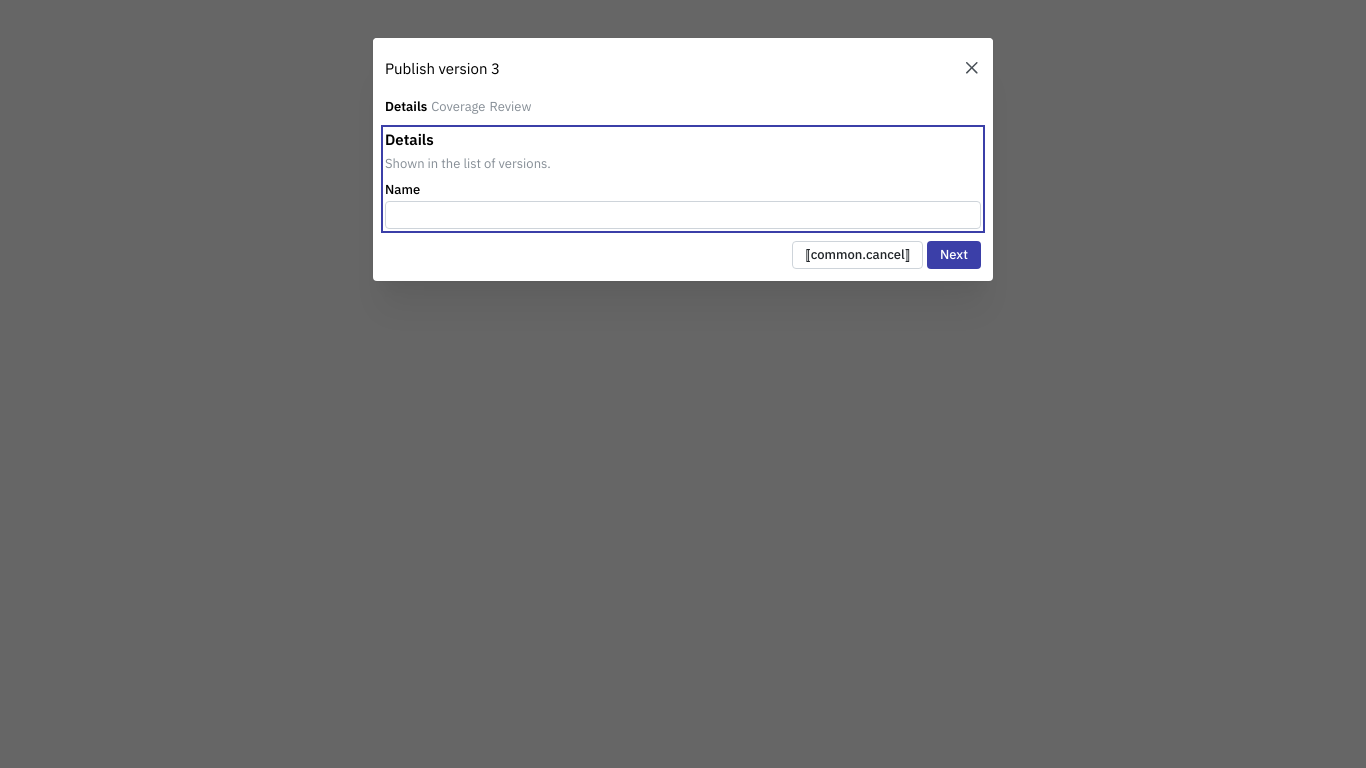
Wizard — крок Review додається САМ › після останнього описаного кроку йде Review з тим, що ввели
The image size is (1366, 768).
Expected: the text "Details" is shown 3 times, [385, 98, 427, 117]; [431, 98, 486, 117]; [490, 98, 531, 117]
In the field labelled "Name": (683, 215) [385, 201, 981, 229], type "Version 3"
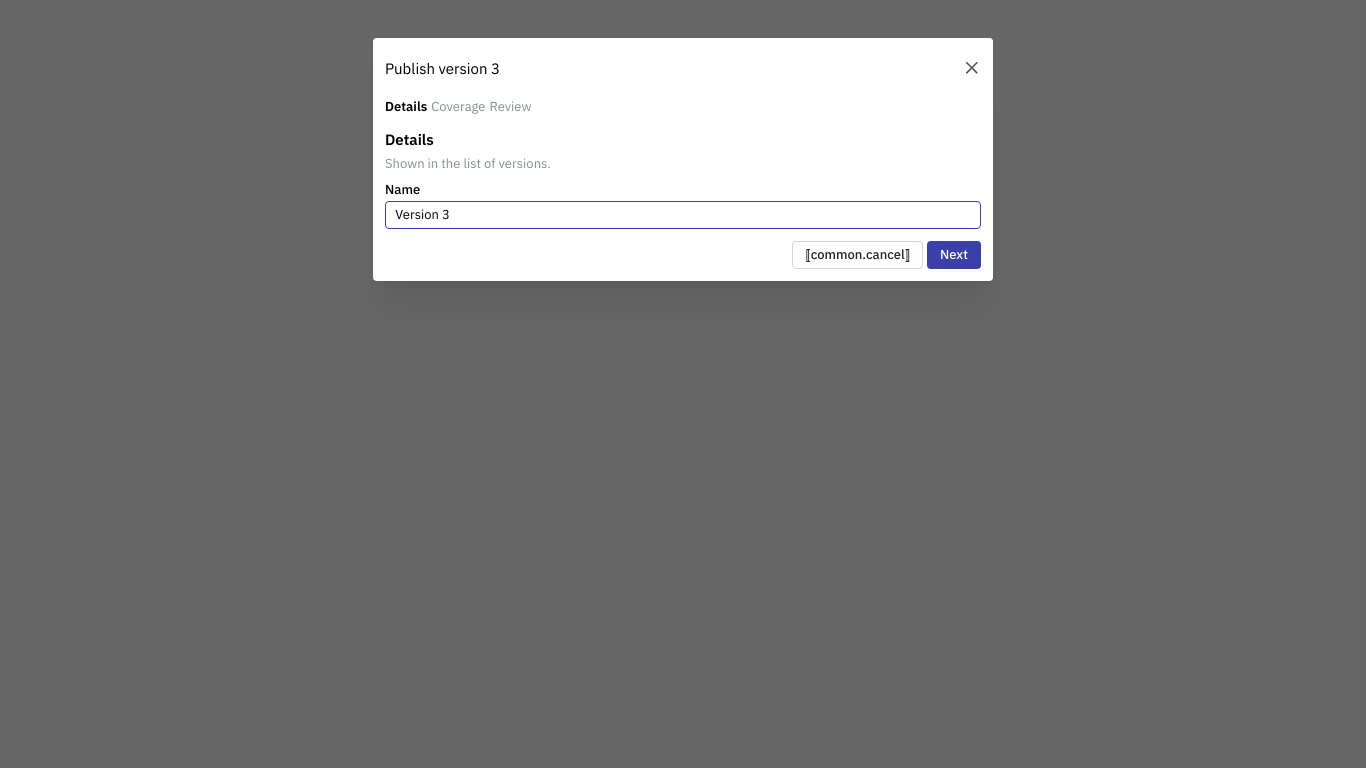
Click the button with test id "wizard-next": click(954, 255) [927, 241, 981, 269]
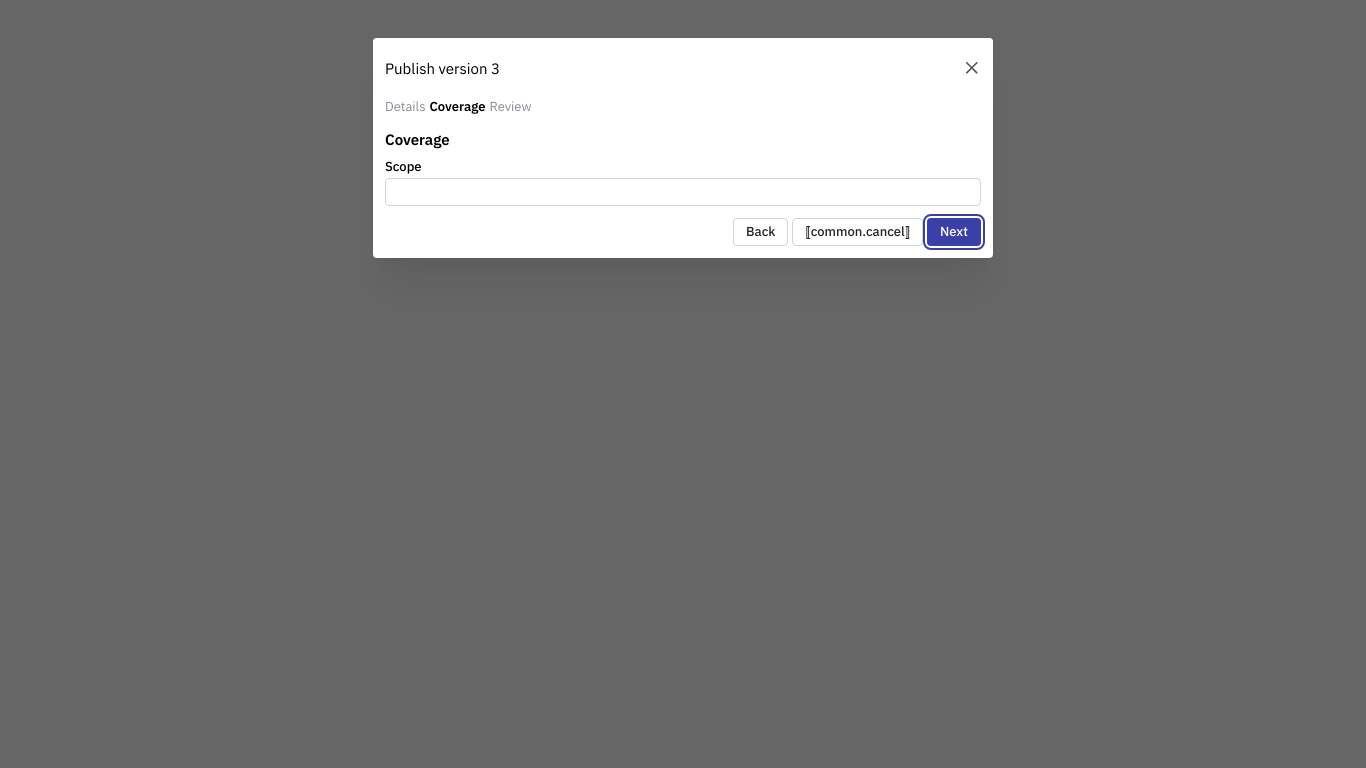
In the field labelled "Scope": (683, 192) [385, 178, 981, 206], type "Boilers"
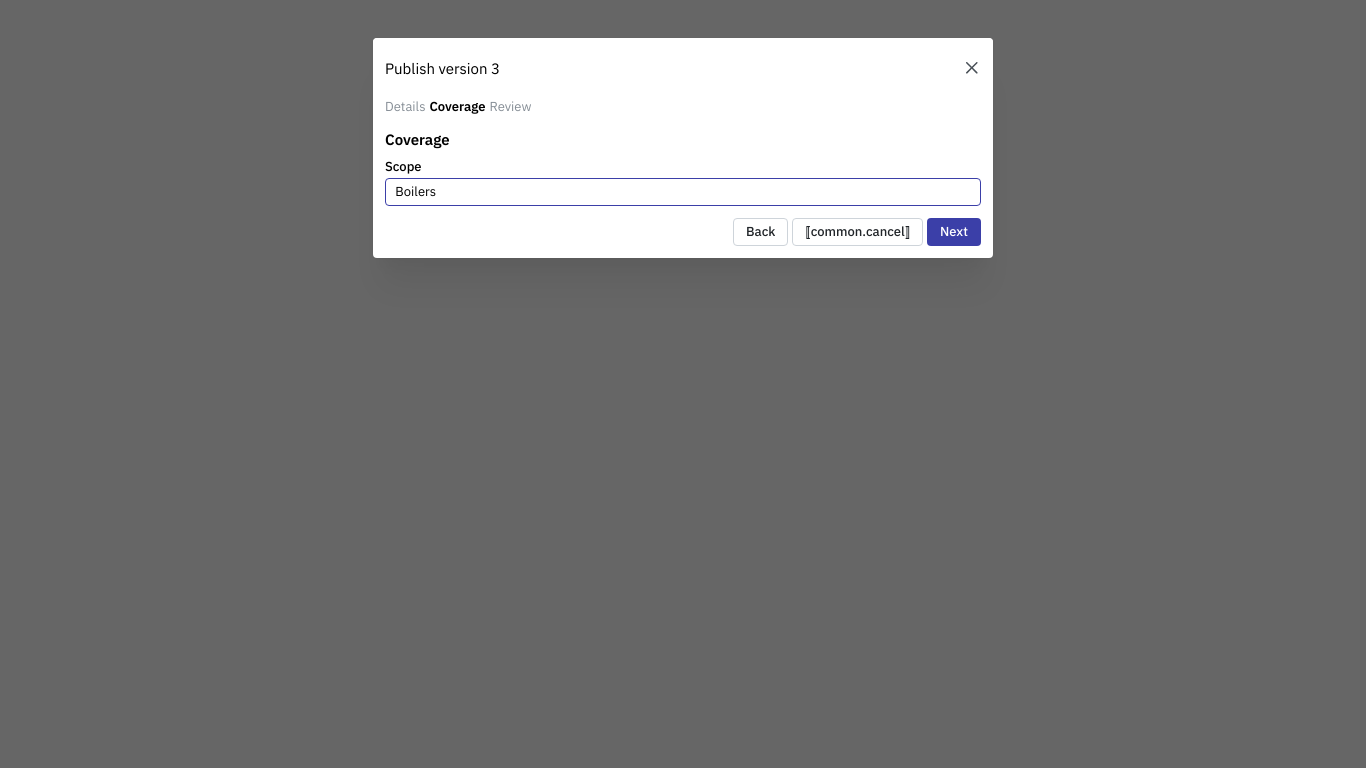
Click the button with test id "wizard-next": click(954, 232) [927, 218, 981, 246]
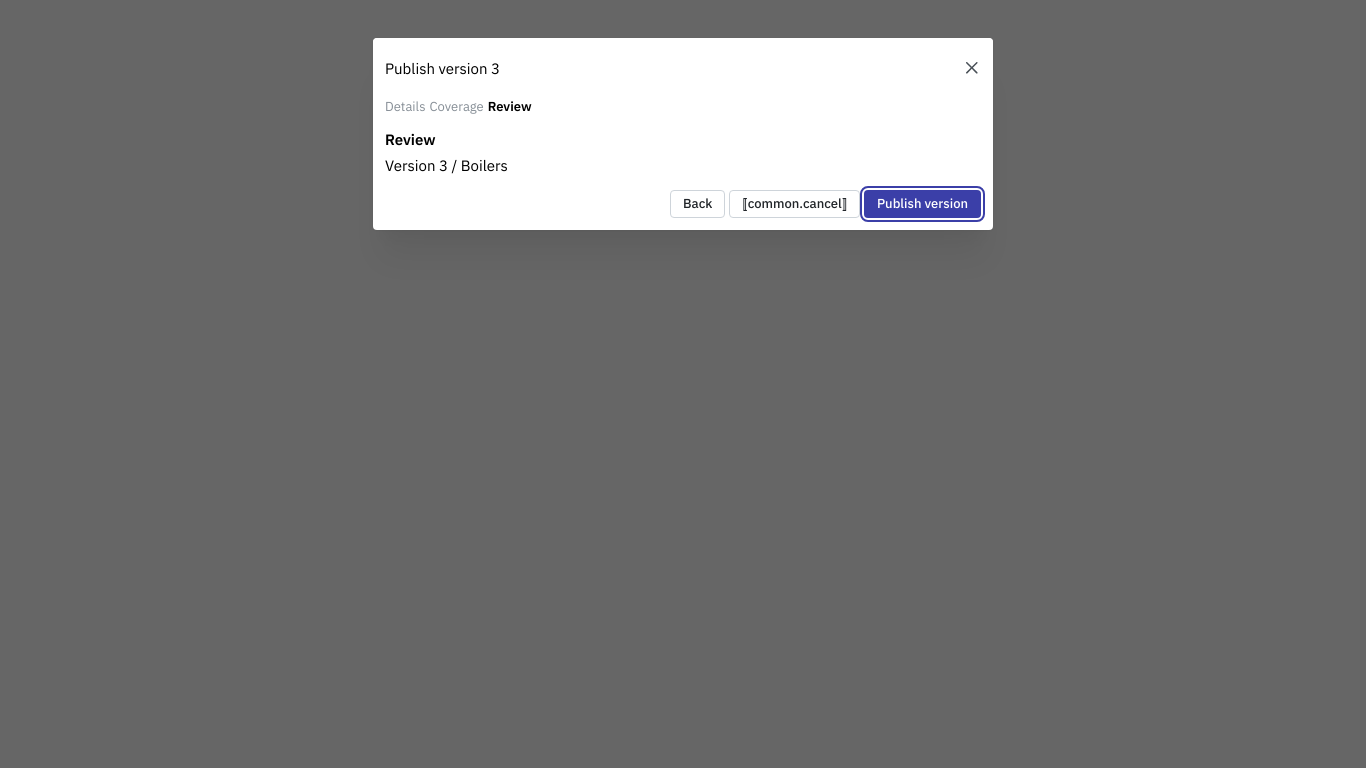
Expected: the element with test id "wizard-summary" reads "Version 3 / Boilers", [385, 157, 508, 176]
Expected: the button with test id "wizard-apply" reads "Publish version", [864, 190, 981, 218]
